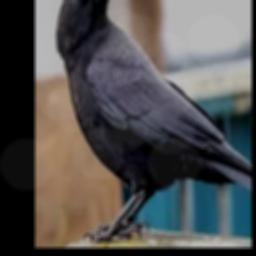Crow: (55, 0, 252, 243)
